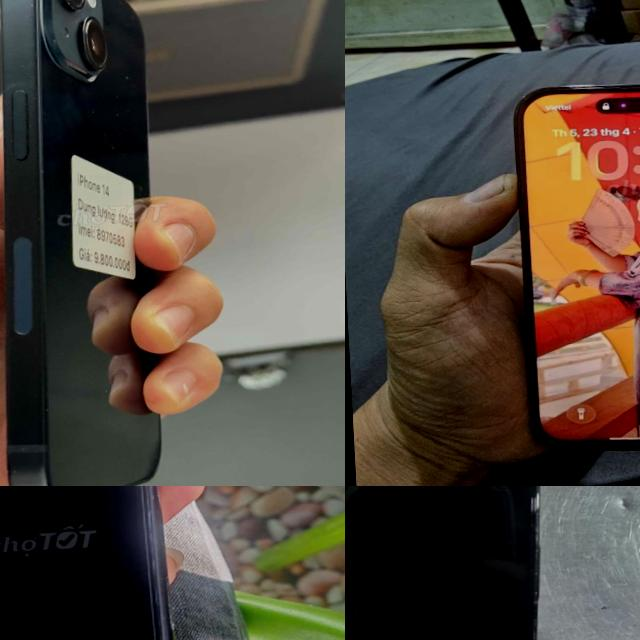gen_11: (345, 486, 572, 640)
gen_14: (0, 0, 207, 486), (493, 67, 640, 475)
gen_x_xs: (0, 486, 171, 640)
scratch: (94, 56, 154, 197), (105, 385, 115, 399)
